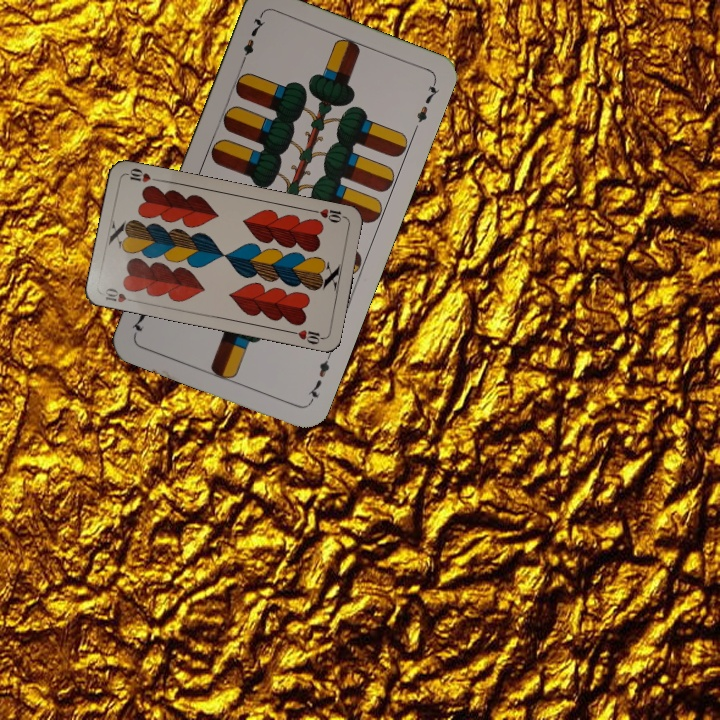E7: (237, 11, 267, 68), (305, 349, 334, 406)
H10: (308, 204, 349, 225), (101, 284, 139, 305)
